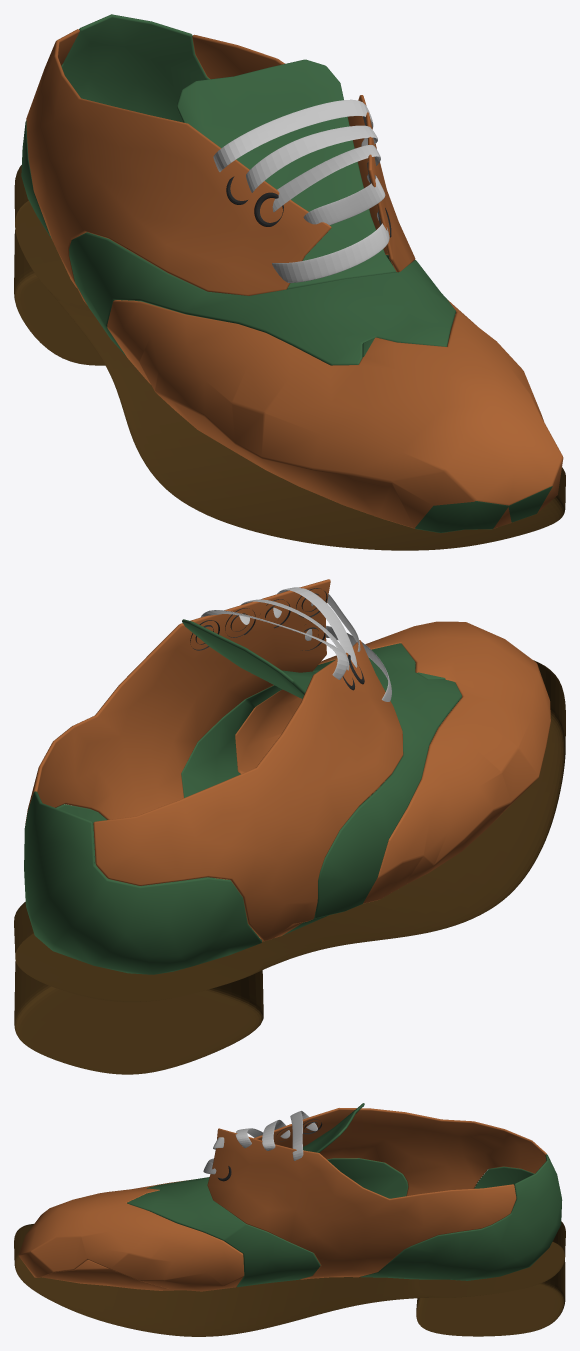
File: za2ve2derecha.fbx
3 renders of one model, top to bottom at view 1: azimuth 30°, elevation 25°; view 2: azimuth 150°, elevation 25°; view 3: azimuth 270°, elevation 25°, orthographic. The views are drawn at different scales.
Visible parts, largest first — view 1: zapato2, Plane, Plane.004, Plane.005, Plane.003, Plane.001, Plane.002; view 2: zapato2, Plane, Plane.001, Plane.004; view 3: zapato2, Plane, Plane.004, Plane.003, Plane.001.
Part boxes in pixels (<box>): zapato2: <box>21,14,563,532</box>; Plane: <box>14,165,565,550</box>; Plane.004: <box>213,99,373,171</box>; Plane.005: <box>272,212,389,282</box>; Plane.003: <box>246,125,377,192</box>; Plane.001: <box>272,145,380,211</box>; Plane.002: <box>303,174,385,225</box>; zapato2: <box>24,579,550,974</box>; Plane: <box>14,660,565,1074</box>; Plane.001: <box>273,587,357,667</box>; Plane.004: <box>200,610,347,679</box>; zapato2: <box>18,1103,562,1291</box>; Plane: <box>14,1221,565,1336</box>; Plane.004: <box>290,1110,317,1160</box>; Plane.003: <box>262,1119,290,1150</box>; Plane.001: <box>235,1128,262,1148</box>.
Bounding box in the file's own units: 169 × 176 × 447.
